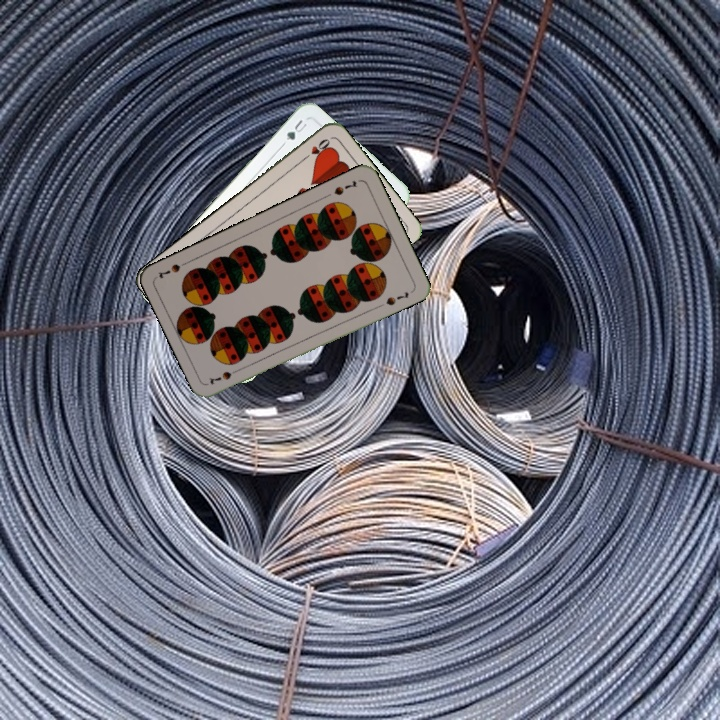GU: (282, 115, 309, 144)
HO: (298, 134, 333, 164)
S7: (205, 364, 243, 387), (330, 176, 360, 198)
